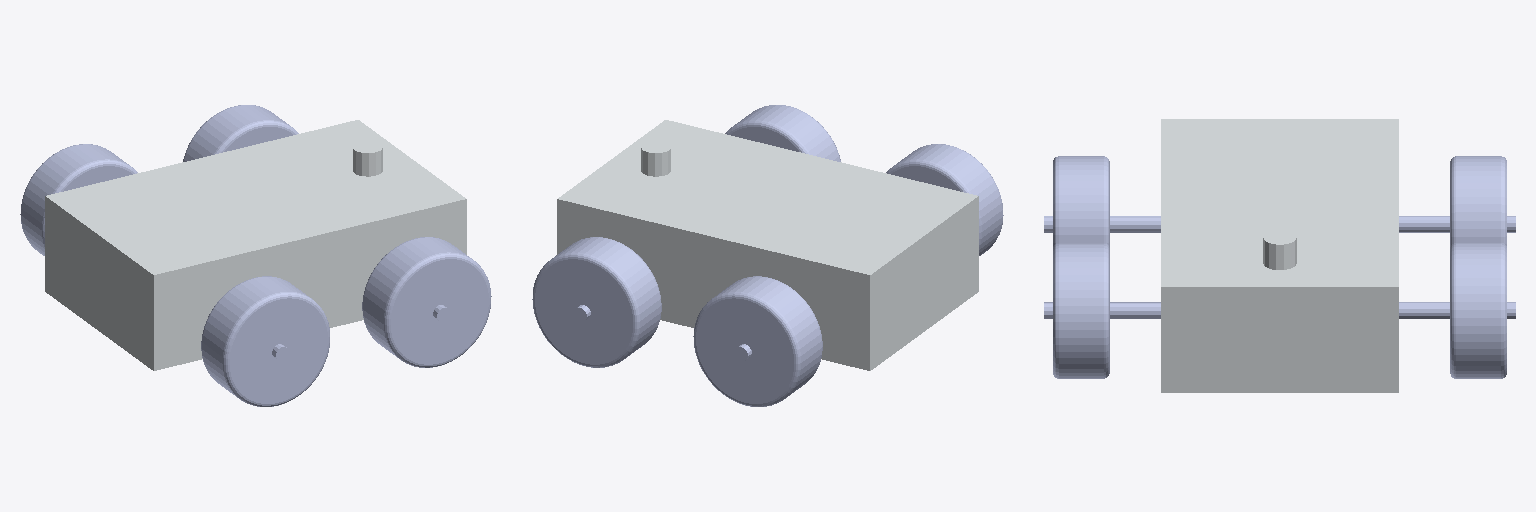
URDF robot description (ugv):
<?xml version="1.0" encoding="utf-8"?>
<!-- This URDF was automatically created by SolidWorks to URDF Exporter! Originally created by [author] ([email redacted]) 
     Commit Version: 1.5.1-0-g916b5db  Build Version: 1.5.7152.31018
     For more information, please see http://wiki.ros.org/sw_urdf_exporter -->
<robot
  name="ugv">
  <link
    name="base_link">
    <inertial>
      <origin
        xyz="0.0282019764038671 -0.0382074334815261 -0.0164764697429973"
        rpy="0 0 0" />
      <mass
        value="12.7884694589669" />
      <inertia
        ixx="0.321638600232192"
        ixy="-0.00424826188790352"
        ixz="2.10997230650026E-16"
        iyy="0.885236606280384"
        iyz="6.7762635780344E-18"
        izz="0.706132235086057" />
    </inertial>
    <visual>
      <origin
        xyz="0 0 0"
        rpy="0 0 0" />
      <geometry>
        <mesh
          filename="package://focas_outdoor_robot/urdf/meshes/base_link.STL" />
      </geometry>
      <material
        name="">
        <color
          rgba="0.898039215686275 0.917647058823529 0.929411764705882 1" />
      </material>
    </visual>
    <collision>
      <origin
        xyz="0 0 0"
        rpy="0 0 0" />
      <geometry>
        <mesh
          filename="package://focas_outdoor_robot/urdf/meshes/base_link.STL" />
      </geometry>
    </collision>
  </link>
  <link
    name="Wheel_FL">
    <inertial>
      <origin
        xyz="-2.7756E-17 -6.9389E-18 -0.13988"
        rpy="0 0 0" />
      <mass
        value="4.4576" />
      <inertia
        ixx="0.019867"
        ixy="8.6736E-19"
        ixz="6.2247E-20"
        iyy="0.019867"
        iyz="1.0141E-18"
        izz="0.03213" />
    </inertial>
    <visual>
      <origin
        xyz="0 0 0"
        rpy="0 0 0" />
      <geometry>
        <mesh
          filename="package://focas_outdoor_robot/urdf/meshes/Wheel_FL.STL" />
      </geometry>
      <material
        name="">
        <color
          rgba="0.79216 0.81961 0.93333 1" />
      </material>
    </visual>
    <collision>
      <origin
        xyz="0 0 0"
        rpy="0 0 0" />
      <geometry>
        <mesh
          filename="package://focas_outdoor_robot/urdf/meshes/Wheel_FL.STL" />
      </geometry>
    </collision>
  </link>
  <joint
    name="FL"
    type="continuous">
    <origin
      xyz="0.20544 0.22648 -0.068006"
      rpy="1.5708 0.2776 0" />
    <parent
      link="base_link" />
    <child
      link="Wheel_FL" />
    <axis
      xyz="0 0 1" />
  </joint>
  <link
    name="Wheel_FR">
    <inertial>
      <origin
        xyz="2.7756E-17 0 -0.13988"
        rpy="0 0 0" />
      <mass
        value="4.4576" />
      <inertia
        ixx="0.019867"
        ixy="0"
        ixz="9.4778E-19"
        iyy="0.019867"
        iyz="2.9885E-19"
        izz="0.03213" />
    </inertial>
    <visual>
      <origin
        xyz="0 0 0"
        rpy="0 0 0" />
      <geometry>
        <mesh
          filename="package://focas_outdoor_robot/urdf/meshes/Wheel_FR.STL" />
      </geometry>
      <material
        name="">
        <color
          rgba="0.79216 0.81961 0.93333 1" />
      </material>
    </visual>
    <collision>
      <origin
        xyz="0 0 0"
        rpy="0 0 0" />
      <geometry>
        <mesh
          filename="package://focas_outdoor_robot/urdf/meshes/Wheel_FR.STL" />
      </geometry>
    </collision>
  </link>
  <joint
    name="FR"
    type="continuous">
    <origin
      xyz="0.20544 -0.19352 -0.068006"
      rpy="1.5708 0.38752 -3.1416" />
    <parent
      link="base_link" />
    <child
      link="Wheel_FR" />
    <axis
      xyz="0 0 1" />
  </joint>

  <link
    name="Wheel_BL">
    <inertial>
      <origin
        xyz="0 0 -0.13988"
        rpy="0 0 0" />
      <mass
        value="4.4576" />
      <inertia
        ixx="0.019867"
        ixy="4.3368E-19"
        ixz="1.3238E-19"
        iyy="0.019867"
        iyz="-3.507E-19"
        izz="0.03213" />
    </inertial>
    <visual>
      <origin
        xyz="0 0 0"
        rpy="0 0 0" />
      <geometry>
        <mesh
          filename="package://focas_outdoor_robot/urdf/meshes/Wheel_BL.STL" />
      </geometry>
      <material
        name="">
        <color
          rgba="0.79216 0.81961 0.93333 1" />
      </material>
    </visual>
    <collision>
      <origin
        xyz="0 0 0"
        rpy="0 0 0" />
      <geometry>
        <mesh
          filename="package://focas_outdoor_robot/urdf/meshes/Wheel_BL.STL" />
      </geometry>
    </collision>
  </link>
  <joint
    name="BL"
    type="continuous">
    <origin
      xyz="-0.15456 0.22648 -0.068006"
      rpy="1.5708 0.35416 0" />
    <parent
      link="base_link" />
    <child
      link="Wheel_BL" />
    <axis
      xyz="0 0 1" />
  </joint>
  
  <link
    name="Wheel_BR">
    <inertial>
      <origin
        xyz="0 0 0"
        rpy="0 0 0" />
      <mass
        value="4.4576" />
      <inertia
        ixx="0.019867"
        ixy="0"
        ixz="9.4778E-19"
        iyy="0.019867"
        iyz="2.9885E-19"
        izz="0.03213" />
    </inertial>
    <visual>
      <origin
        xyz="0 0 0"
        rpy="0 0 0" />
      <geometry>
        <mesh
          filename="package://focas_outdoor_robot/urdf/meshes/Wheel_BR.STL" />
      </geometry>
      <material
        name="">
        <color
          rgba="0.79216 0.81961 0.93333 1" />
      </material>
    </visual>
    <collision>
      <origin
        xyz="0 0 0"
        rpy="0 0 0" />
      <geometry>
        <mesh
          filename="package://focas_outdoor_robot/urdf/meshes/Wheel_BR.STL" />
      </geometry>
    </collision>
  </link>
  <joint
    name="BR"
    type="continuous">
    <origin
      xyz="-0.154561678579732 -0.193523530257003 -0.0680062105466368"
      rpy="1.5707963267949 -0.0892133468575759 3.14159265358979" />
    <parent
      link="base_link" />
    <child
      link="Wheel_BR" />
    <axis
      xyz="0 0 1" />
  </joint>
</robot>

--- Facts derived from the render (not from the file) ---
The picture shows the robot from 3 angles, left to right: view 1: azimuth 30°, elevation 25°; view 2: azimuth 150°, elevation 25°; view 3: azimuth 270°, elevation 25°; orthographic projection.
Robot: ugv — 5 links, 4 joints (4 continuous); root link base_link; default pose: every joint at zero.
Visible links, largest first — view 1: base_link, Wheel_FR, Wheel_BR, Wheel_BL, Wheel_FL; view 2: base_link, Wheel_FL, Wheel_BL, Wheel_BR, Wheel_FR; view 3: base_link, Wheel_FL, Wheel_FR, Wheel_BL, Wheel_BR.
Link boxes in pixels (x1,y1,x2,y2): base_link: [45, 120, 466, 370]; Wheel_FR: [362, 237, 491, 367]; Wheel_BR: [201, 276, 329, 406]; Wheel_BL: [20, 144, 137, 255]; Wheel_FL: [183, 105, 298, 161]; base_link: [557, 120, 978, 370]; Wheel_FL: [532, 237, 661, 367]; Wheel_BL: [693, 276, 822, 406]; Wheel_BR: [886, 144, 1003, 255]; Wheel_FR: [725, 105, 840, 161]; base_link: [1161, 119, 1398, 392]; Wheel_FL: [1399, 243, 1515, 378]; Wheel_FR: [1044, 243, 1160, 378]; Wheel_BL: [1399, 156, 1515, 246]; Wheel_BR: [1044, 156, 1160, 246].
Size in the robot's own frame: 0.7 by 0.83 by 0.295 metres.
Meshes: 5 distinct files referenced, 5 mesh visuals loaded (5 binary STL).